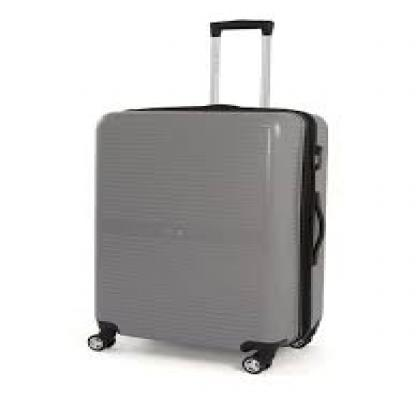maleta: (56, 95, 345, 376)
